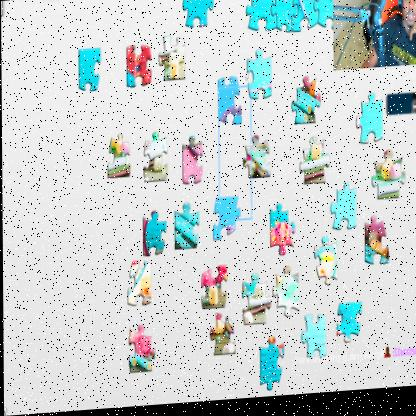streamer: (360, 0, 416, 73)
